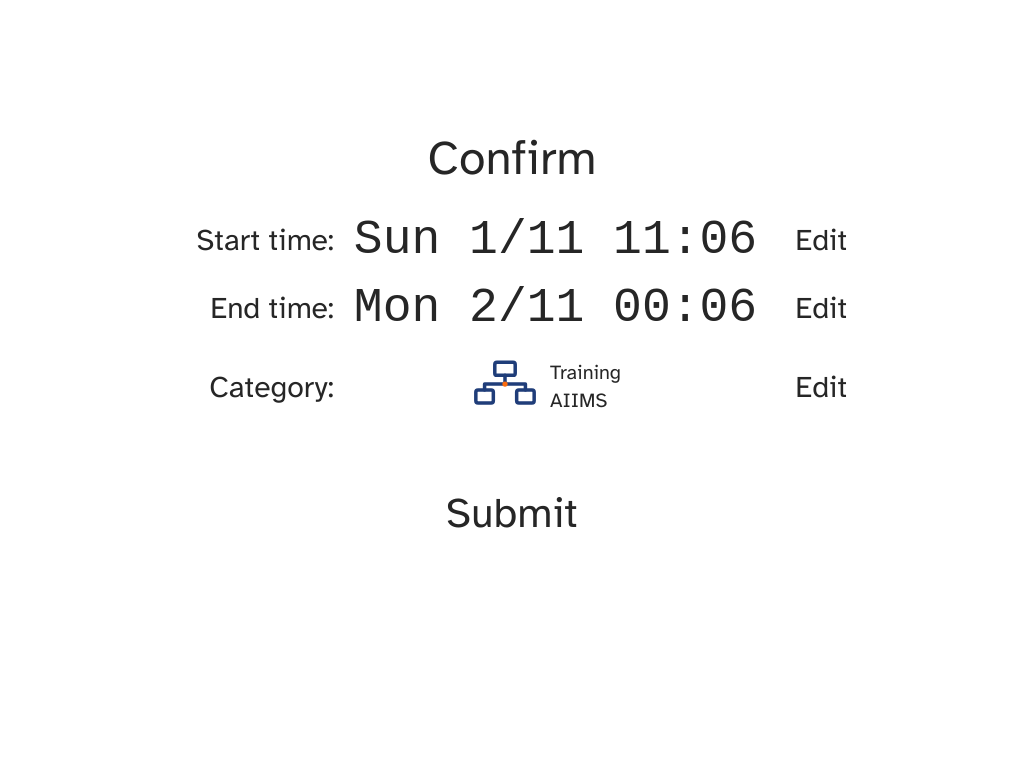
Test: ScanScreenAdjust › does not submit if the long-period confirmation is cancelled
Click the button "Submit" at x=512, y=513, box [422,472,602,554]
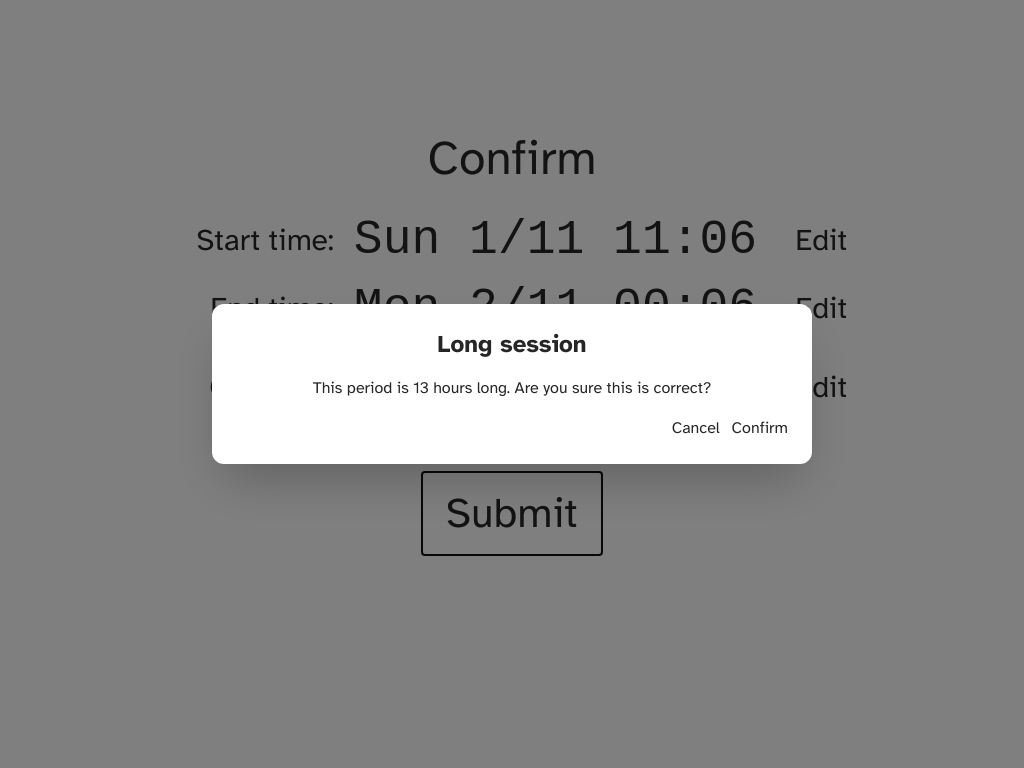
Click the button "Cancel" at x=696, y=428, box [672,416,720,440]
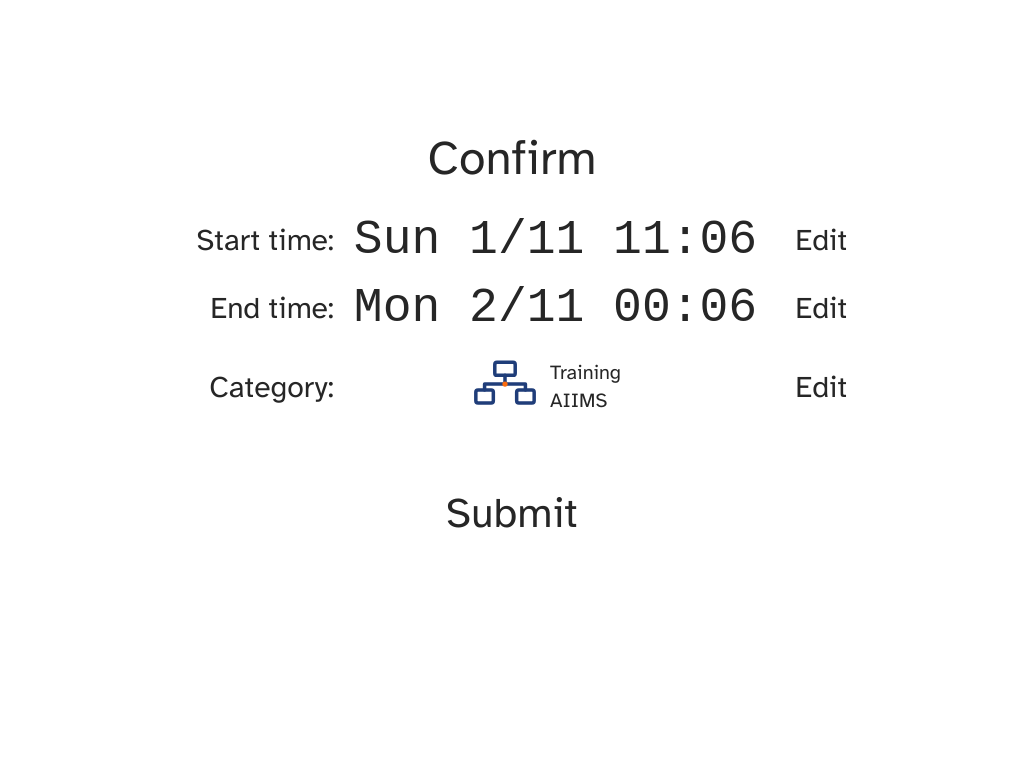
expect the heading "Long session" is gone: met
